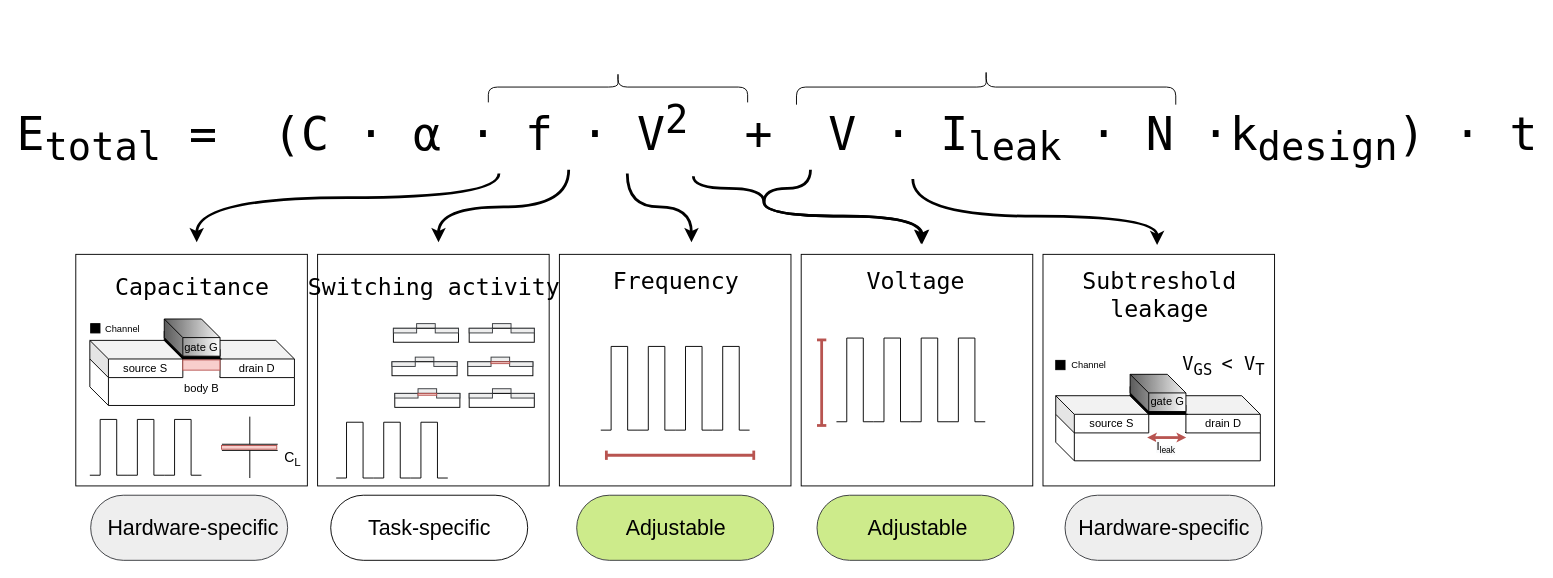
This 1553x578 diagram has some shape labels left out. The shapes that lost their labels are listed below. From the top down, each one's centre as x and y in pixels, then its label:
At (x=617, y=86): "P dyn".
At (x=986, y=86): "P leak".
